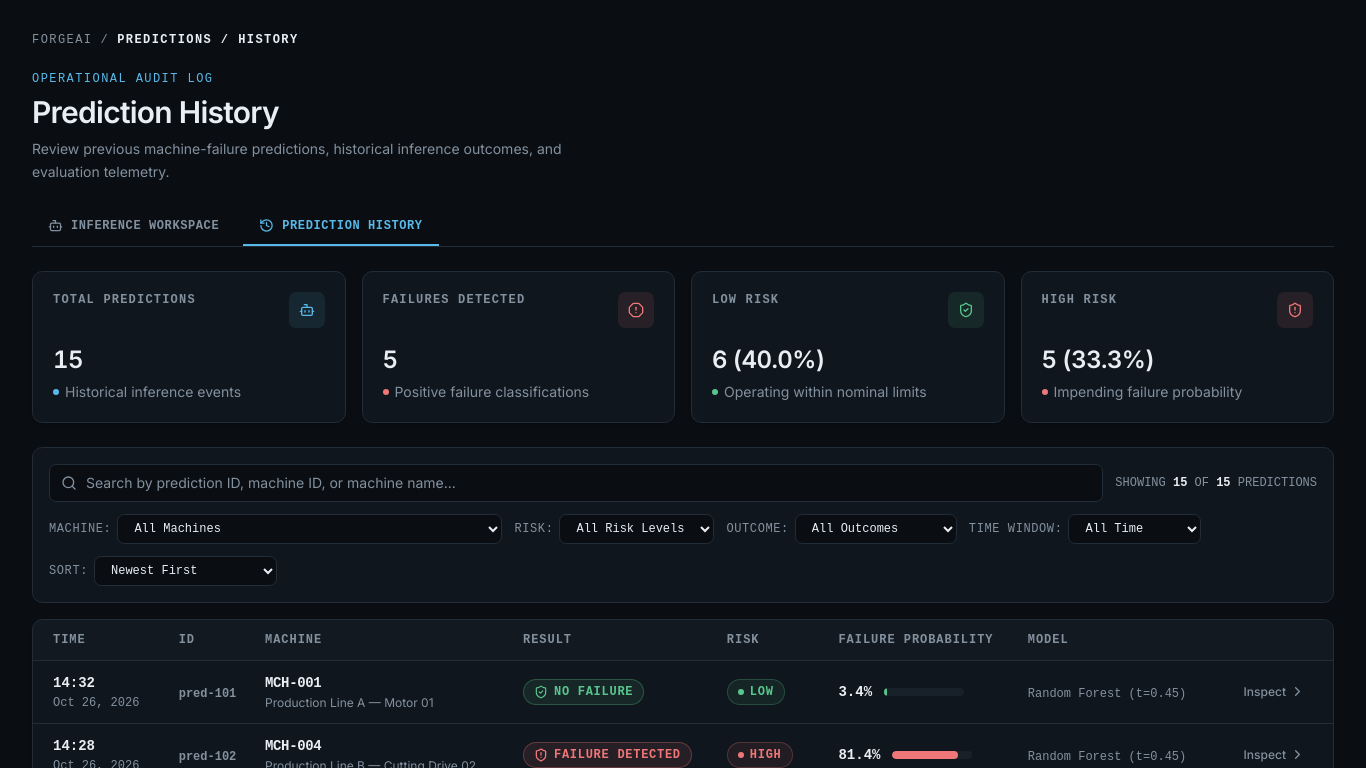
Prediction History Experience (Part 10) › filters predictions by outcome (Failure Detected vs No Failure)
Note: Failure Detected
Select "Failure Detected" in the dropdown named "Filter predictions by result outcome" at (876, 528), box [795,514,957,544]
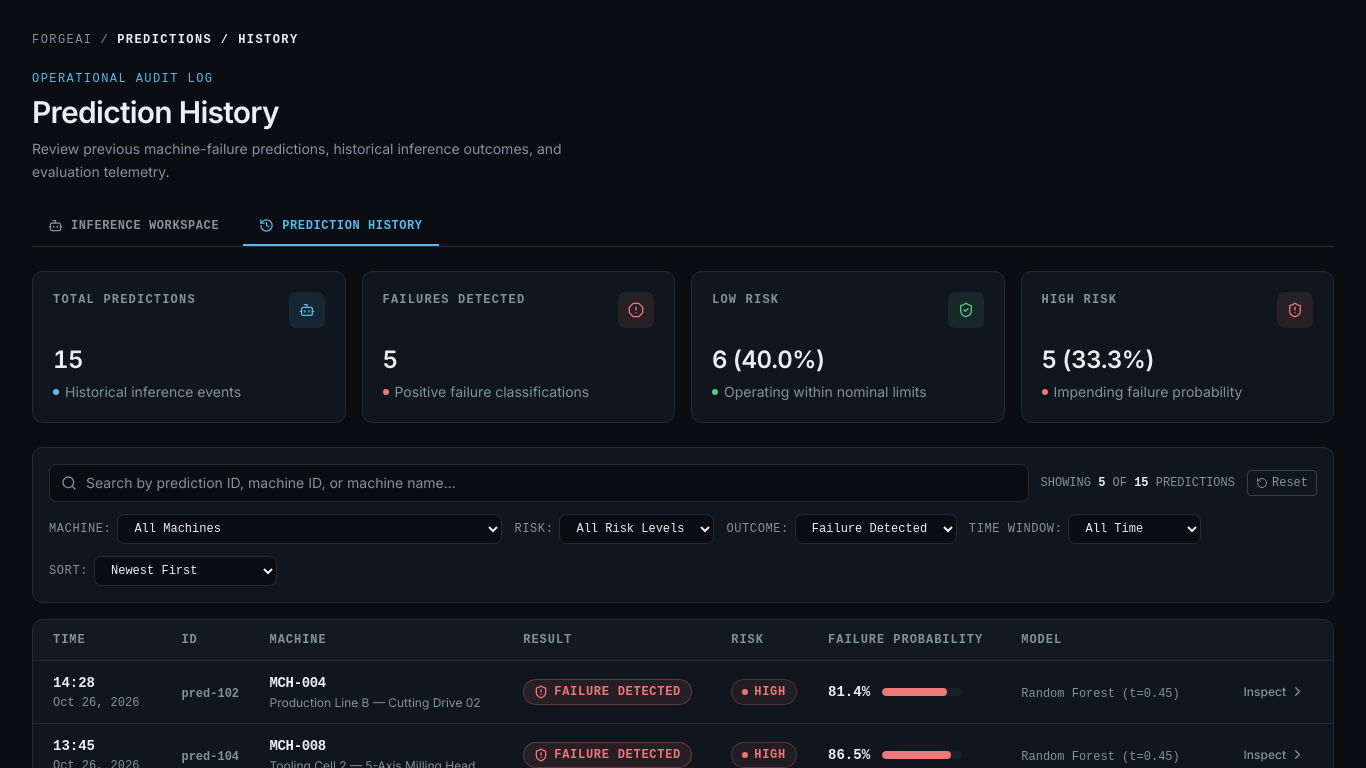
Check: the text "pred-102" is shown, box [181,686,239,700]
Check: the text "pred-101" is gone
Note: No Failure
Select "No Failure" in the dropdown named "Filter predictions by result outcome" at (876, 528), box [795,514,957,544]
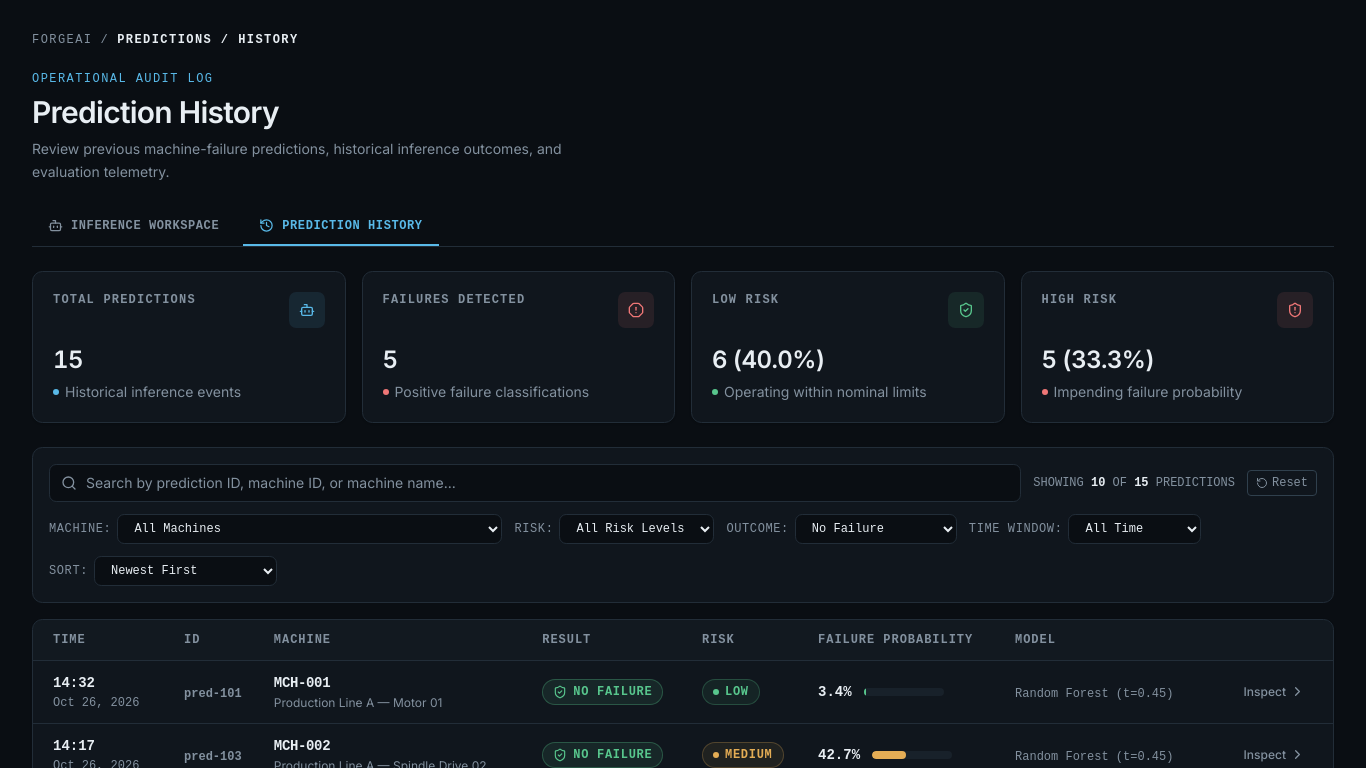
Check: the text "pred-101" is shown, box [184,686,242,700]
Check: the text "pred-103" is shown, box [184,750,242,764]
Check: the text "pred-102" is gone
